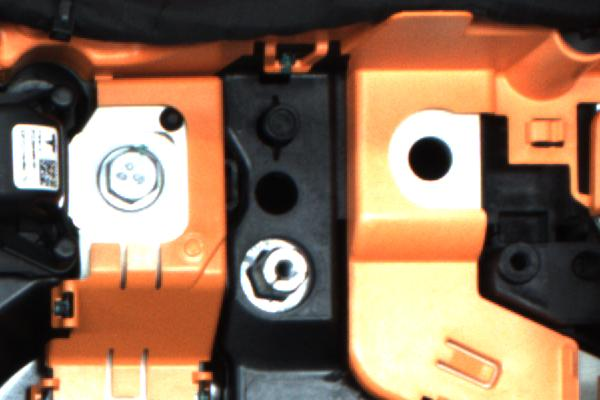nut_b: (94, 141, 167, 208)
